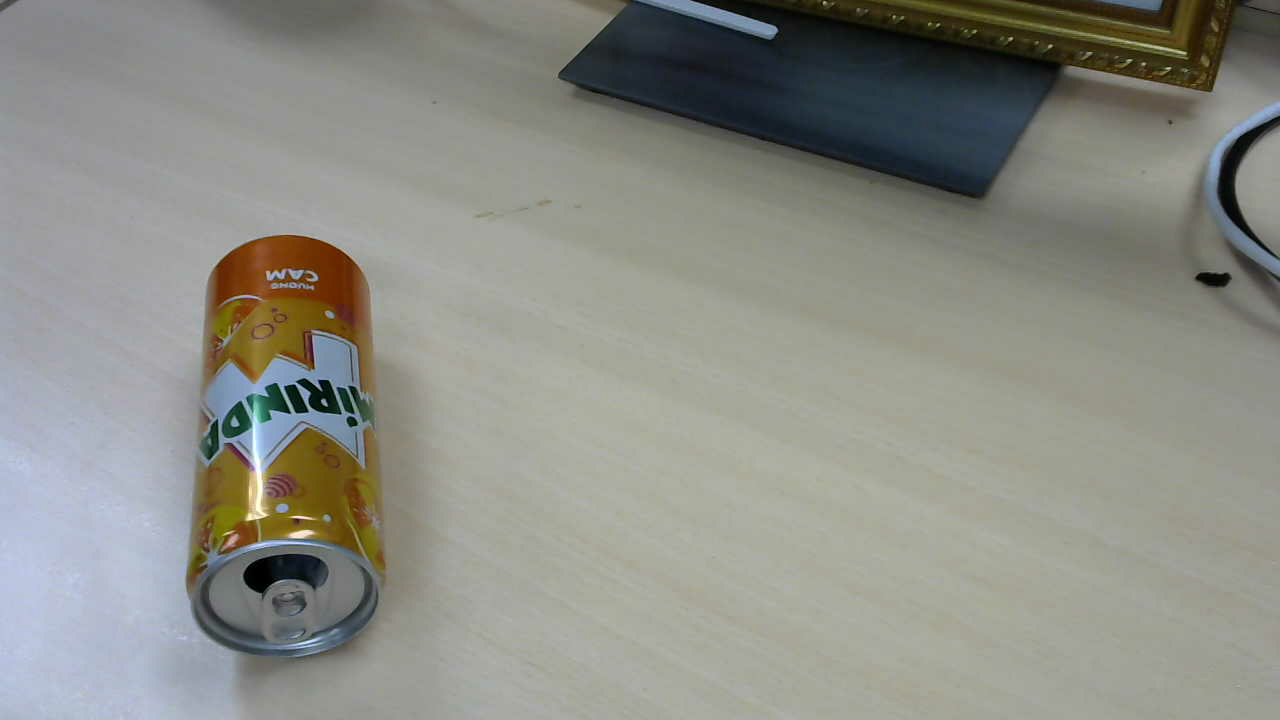Mirinda: (192, 237, 391, 659)
